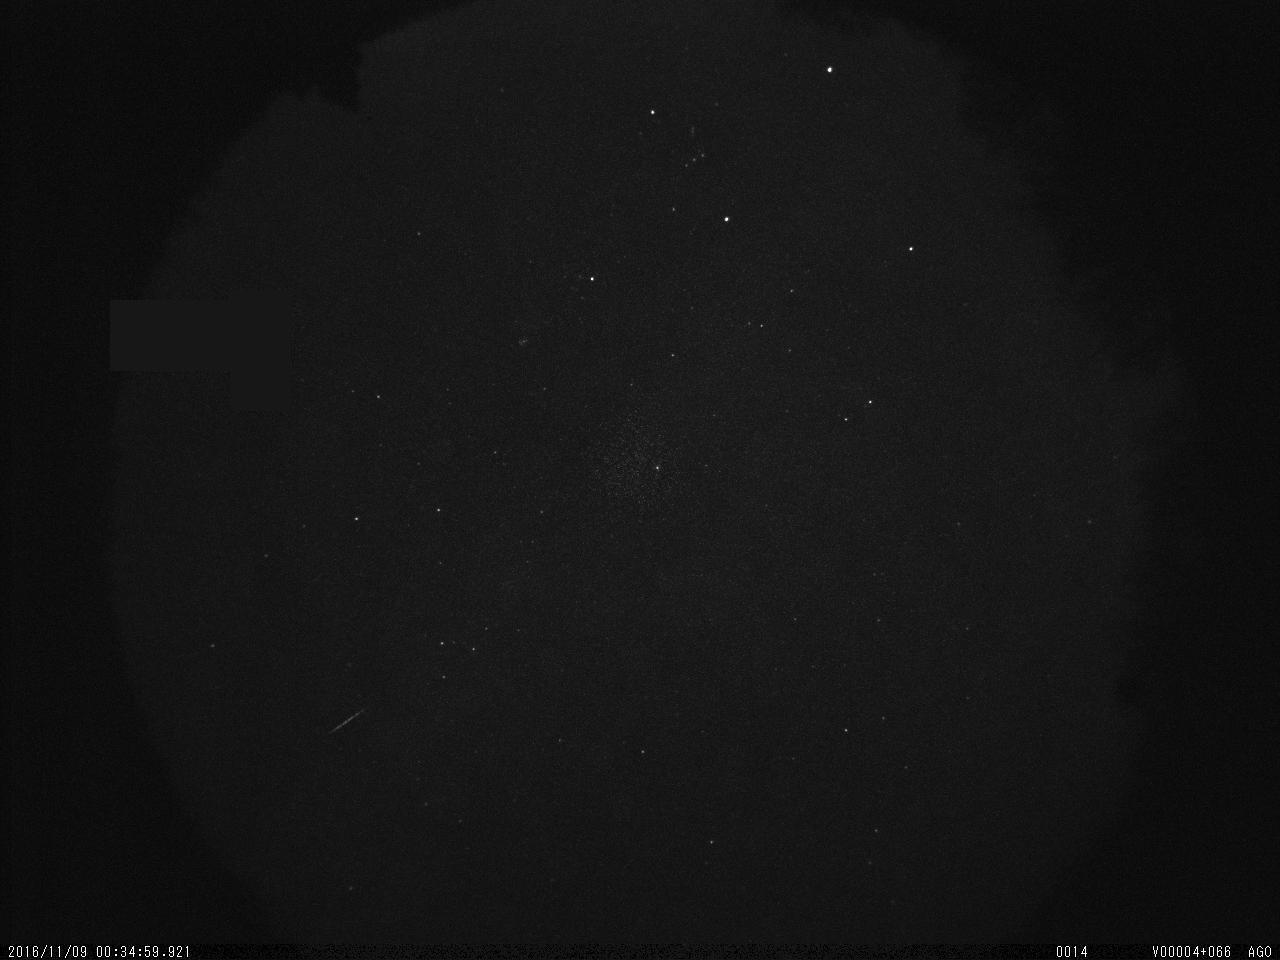meteor: (321, 703, 373, 746)
